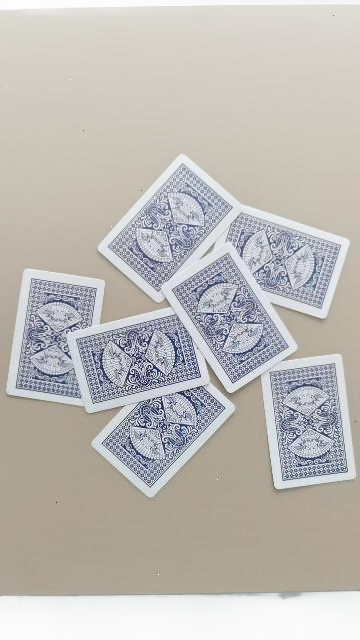card: (98, 155, 241, 302), (161, 244, 296, 392), (91, 384, 235, 498), (215, 205, 350, 319), (68, 309, 209, 412), (6, 269, 105, 406), (261, 354, 355, 489)
